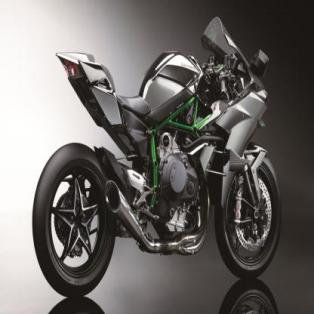Motocicleta: (32, 11, 285, 296)
